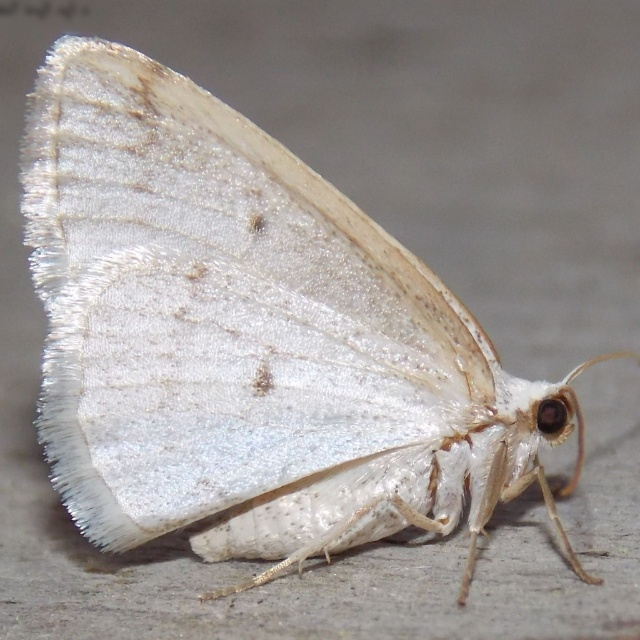Butterfly: (18, 23, 640, 615)
